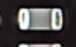COMP: (14, 5, 67, 34)
GAP: (18, 18, 61, 47)
